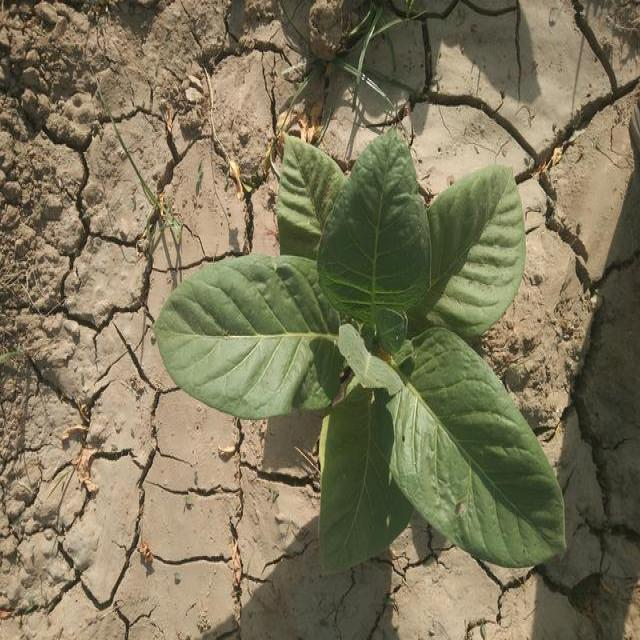crop: (163, 143, 566, 572)
